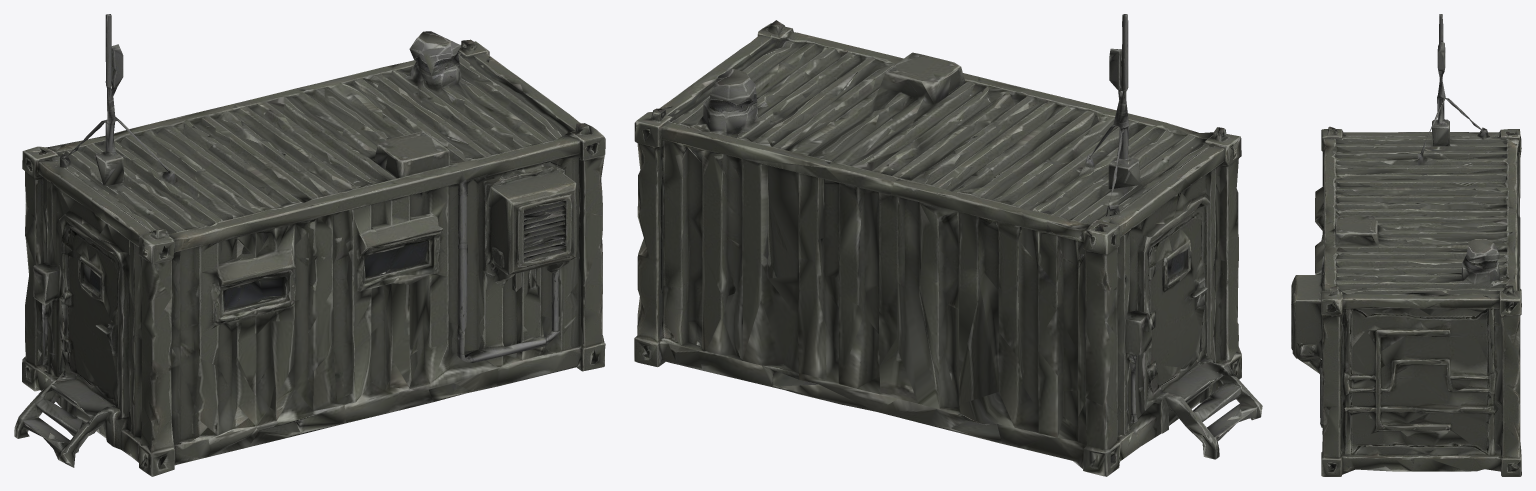
File: mil_shelter.glb
3 renders of one model, left to right at view 1: azimuth 30°, elevation 25°; view 2: azimuth 150°, elevation 25°; view 3: azimuth 270°, elevation 25°, orthographic. The views are drawn at different scales.
Visible parts, largest first — view 1: mil_shelter; view 2: mil_shelter; view 3: mil_shelter.
Part boxes in pixels (<box>): mil_shelter: <box>14,14,605,476</box>; mil_shelter: <box>634,14,1262,476</box>; mil_shelter: <box>1291,14,1521,476</box>.
Size of the model in its own units: 1.9 by 1.43 by 0.9683.
1 material, 1 textured.
